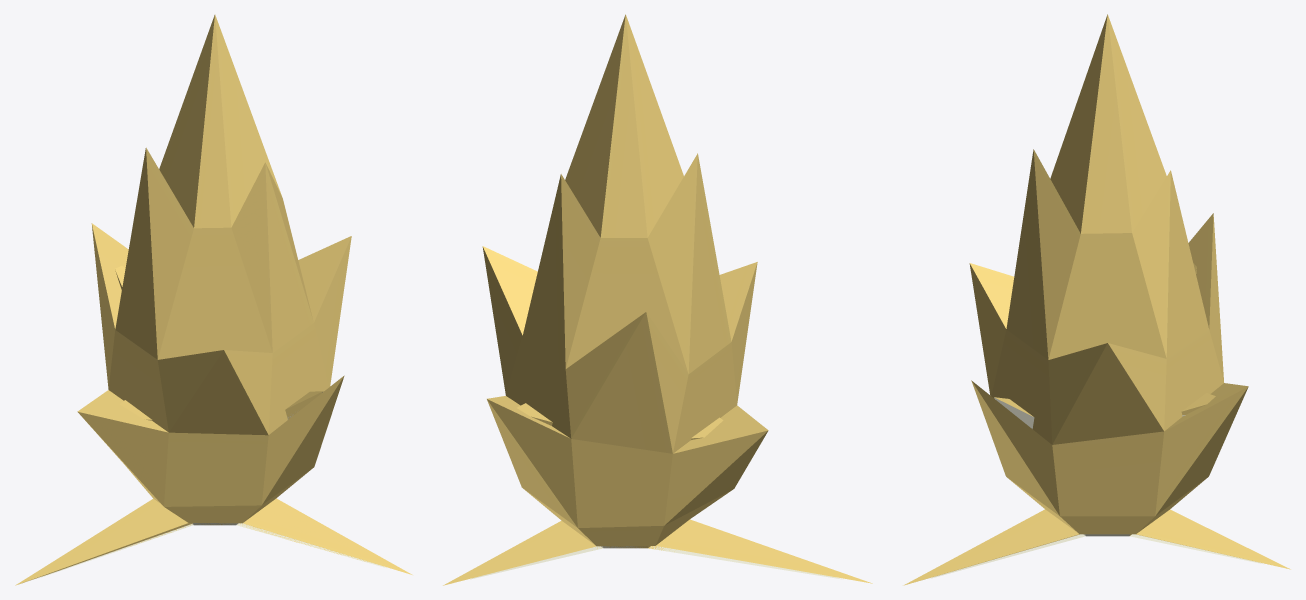
Rendered from muzzlefps.fbx.
The picture shows the model from 3 angles, left to right: view 1: azimuth 30°, elevation 25°; view 2: azimuth 150°, elevation 25°; view 3: azimuth 270°, elevation 25°; orthographic projection. The views are drawn at different scales.
Parts seen in each view (by area): view 1: Sphere.001; view 2: Sphere.001; view 3: Sphere.001.
Boxes of the visible parts, bbox=[...] form: Sphere.001: bbox=[15, 14, 412, 585]; Sphere.001: bbox=[443, 14, 872, 585]; Sphere.001: bbox=[903, 14, 1290, 585].
Bounding box in the file's own units: 102 × 140 × 94.37.
